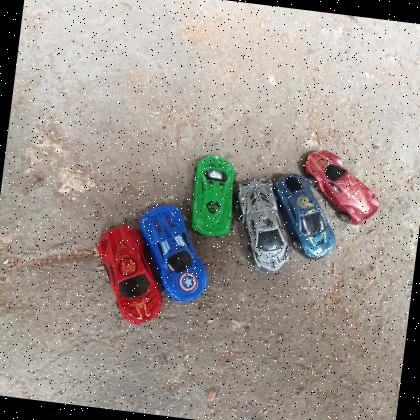Car: (129, 200, 217, 308), (88, 222, 173, 330), (226, 174, 300, 278), (297, 147, 388, 230), (266, 172, 344, 262), (184, 152, 241, 240)
